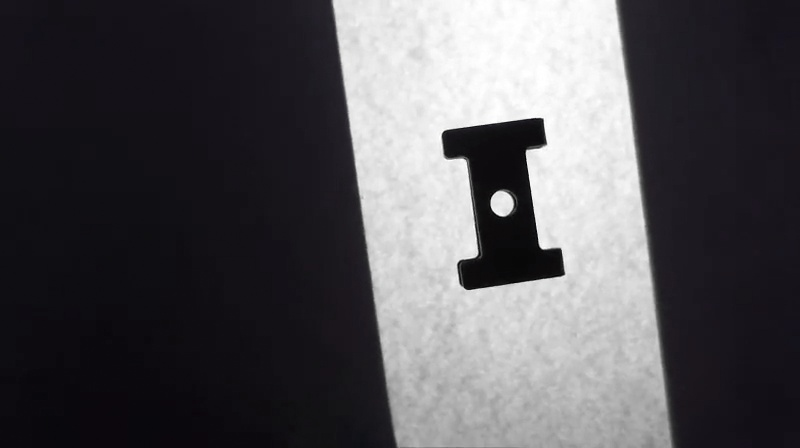O002: (437, 115, 571, 292)
